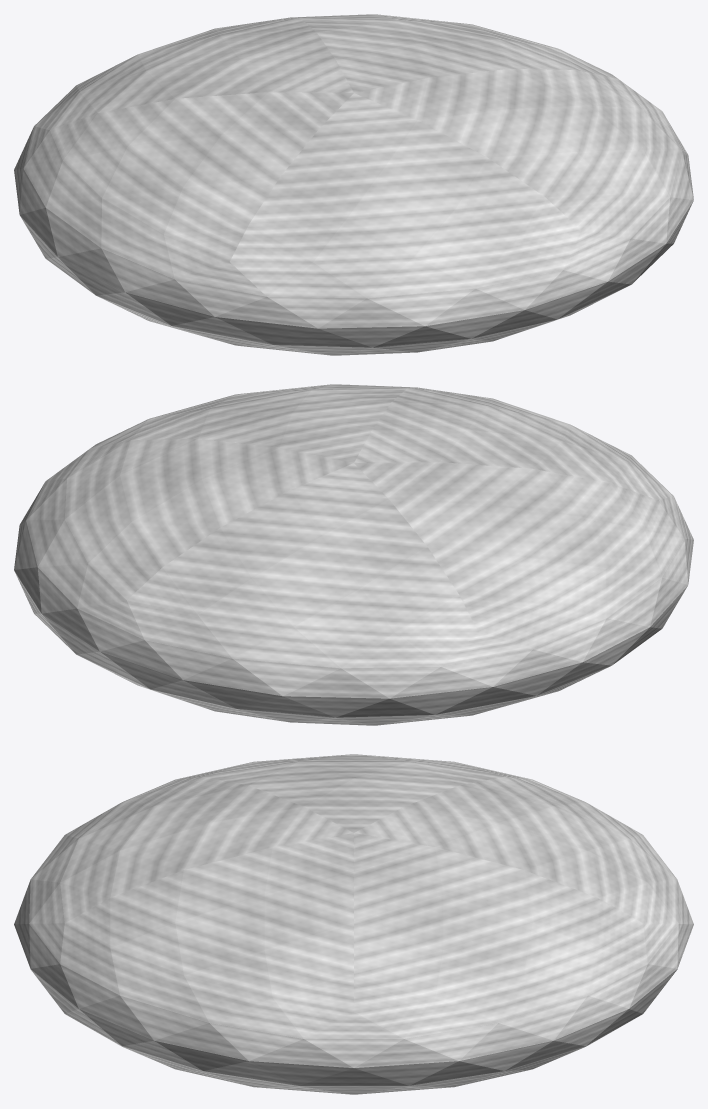
File: crude_oil_node_variant_d.glb
3 views of the same model, one above another, from view 1: azimuth 30°, elevation 25°; view 2: azimuth 150°, elevation 25°; view 3: azimuth 270°, elevation 25° (orthographic).
Parts seen in each view (by area): view 1: Oil-bearing rock.003; view 2: Oil-bearing rock.003; view 3: Oil-bearing rock.003.
Boxes of the visible parts, x1,y1,x2,y2 form: Oil-bearing rock.003: (14, 14, 693, 355); Oil-bearing rock.003: (14, 384, 693, 725); Oil-bearing rock.003: (14, 754, 693, 1094).
Size of what is drawn, in the model's own units: 6.4 by 1.9 by 6.4.
2 materials, 2 textured.
